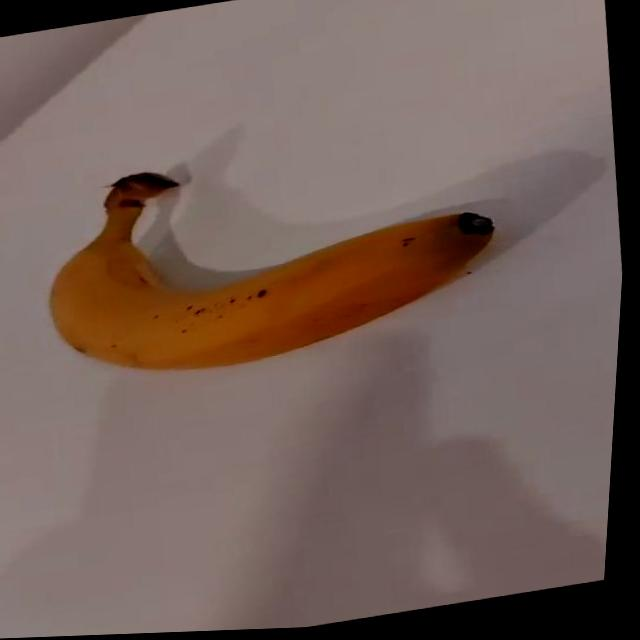Banana: (33, 122, 515, 396)
